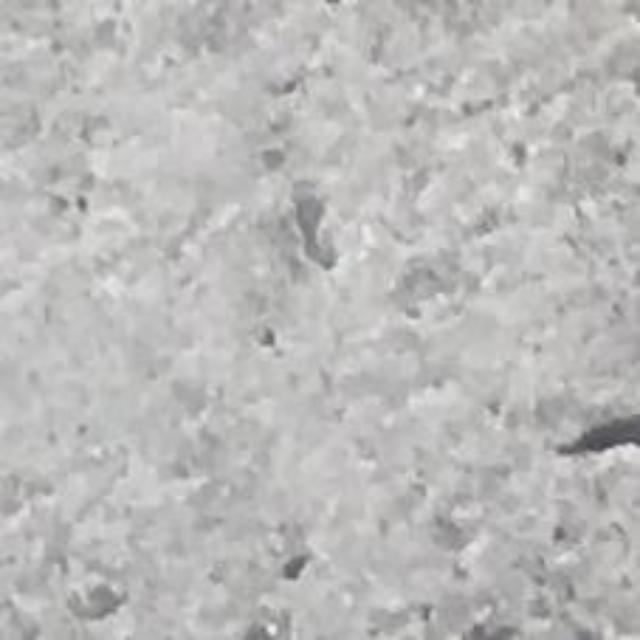peeling plaster: (559, 415, 639, 456)
